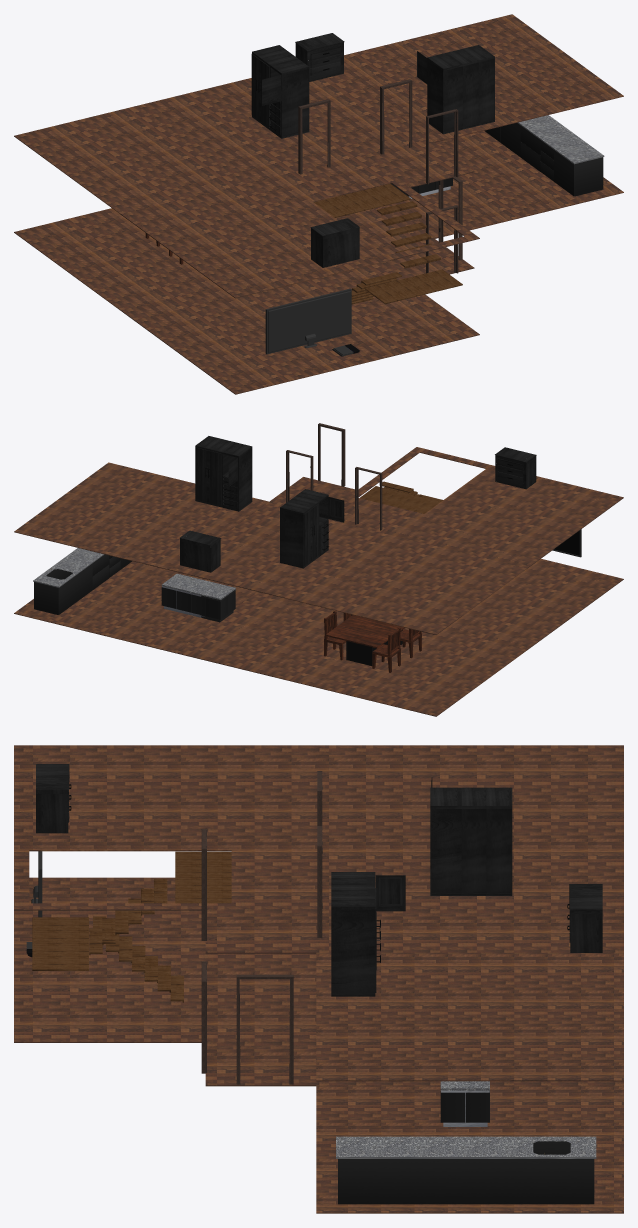
Rendered from brillosos.fbx.
The picture shows the model from 3 angles, top to bottom: view 1: azimuth 30°, elevation 25°; view 2: azimuth 150°, elevation 25°; view 3: azimuth 270°, elevation 25°; orthographic projection. The views are drawn at different scales.
Parts seen in each view (by area): view 1: P2_Piso, PB_piso, wood, Cube.004, Cube.002, TV, lavabo, Cube, lavabo.002, Cube.003, MarcoPuertaCuartoB, MarcoPuertaCuartoA (+2 smaller); view 2: P2_Piso, PB_piso, Cube.004, Cube.002, lavabo, Mesa, Cube, Cube.003, Counter_Face, wood, lavabo.002, Counter_Top (+5 smaller); view 3: P2_Piso, PB_piso, lavabo, wood, Cube.002, Cube.004, lavabo.002, Cube, Cube.003, Counter_Face, MarcoPuertaPrincipal, MarcoPuertaBanioPB (+2 smaller).
Part boxes in pixels (x1,y1,x2,y2): P2_Piso: (14,14,623,298); PB_piso: (14,131,623,394); wood: (314,183,462,304); Cube.004: (417,45,494,134); Cube.002: (251,45,309,138); TV: (265,288,351,354); lavabo: (484,123,603,196); Cube: (310,218,359,267); lavabo.002: (517,115,604,164); Cube.003: (295,33,344,81); MarcoPuertaCuartoB: (298,99,330,174); MarcoPuertaCuartoA: (380,79,412,154); P2_Piso: (14,447,623,635); PB_piso: (14,559,623,716); Cube.004: (195,436,252,511); Cube.002: (280,489,344,568); lavabo: (34,554,131,614); Mesa: (326,615,405,666); Cube: (495,447,536,489); Cube.003: (179,530,221,572); Counter_Face: (161,587,235,619); wood: (359,481,442,513); lavabo.002: (33,548,104,587); Counter_Top: (161,573,235,599); P2_Piso: (14,745,623,1081); PB_piso: (14,877,623,1213); lavabo: (338,1141,594,1204); wood: (32,851,231,1002); Cube.002: (430,777,512,895); Cube.004: (331,872,405,996); lavabo.002: (336,1136,596,1158); Cube: (36,764,71,833); Cube.003: (567,884,602,952); Counter_Face: (440,1091,489,1122); MarcoPuertaPrincipal: (236,974,293,1084); MarcoPuertaBanioPB: (201,961,206,1073).
Size of the model in its own units: 1642 by 515 by 1264.
Materials: 26 (26 with a texture image).
